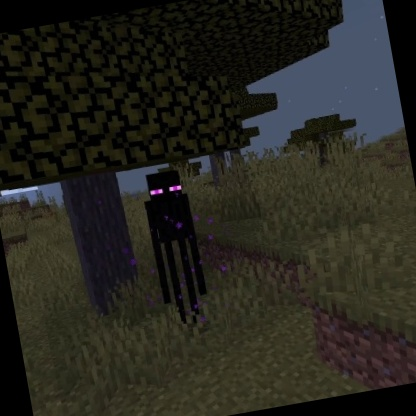enderman: (134, 164, 217, 331)
